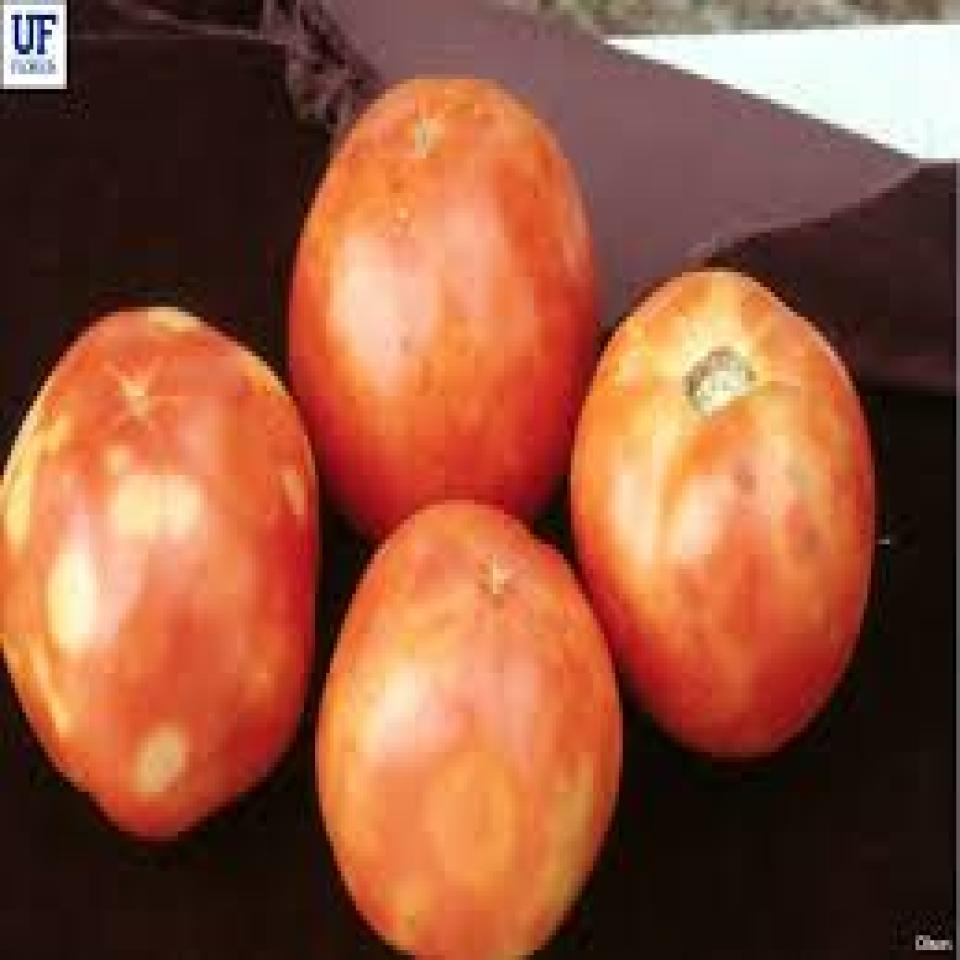Spotted wilt Virus: (0, 307, 319, 836), (289, 79, 600, 549), (575, 272, 875, 757), (315, 500, 615, 960)
